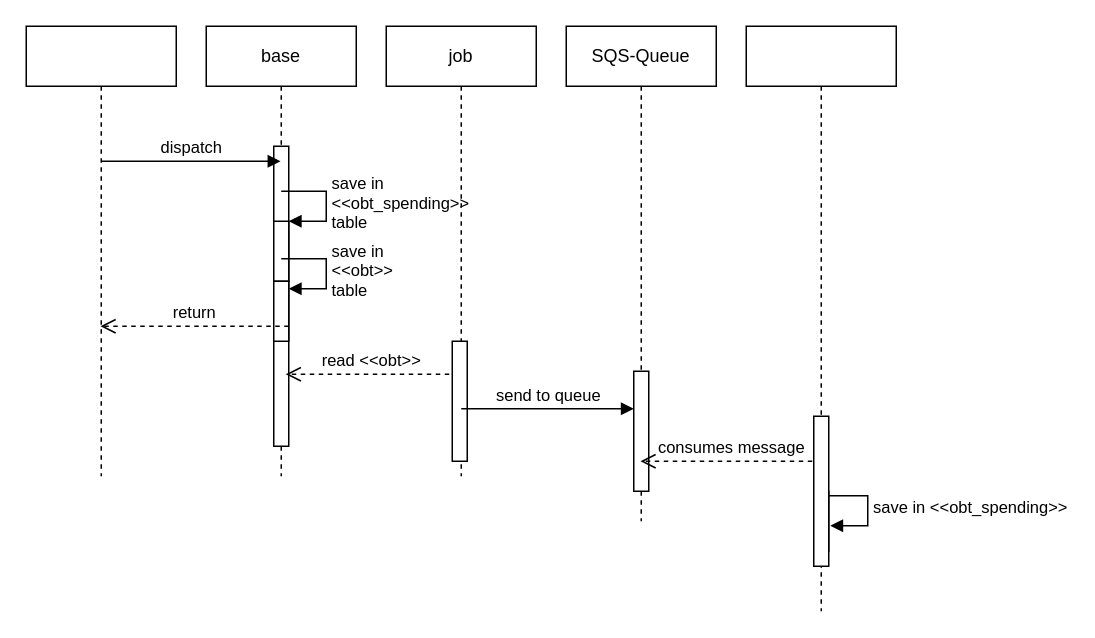
Image size: 1095x638. Some labels were removed from this diagram. The box of each missing label's shape, as (x1, y1, x2, y2) in pixels:
caller: (25, 25, 176, 476)
consumer: (745, 25, 896, 611)
